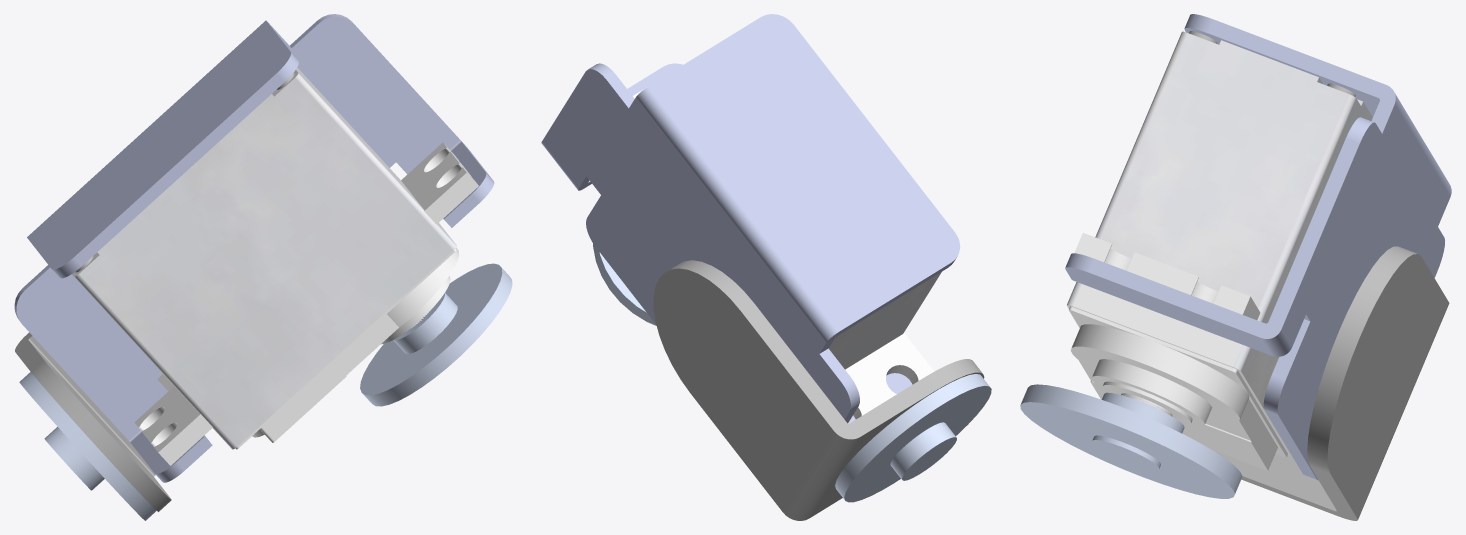
Rendered from r_elbow_link.dae.
The picture shows the model from 3 angles, left to right: view 1: azimuth 30°, elevation 25°; view 2: azimuth 150°, elevation 25°; view 3: azimuth 270°, elevation 25°; orthographic projection. The views are drawn at different scales.
Parts seen in each view (by area): view 1: Actor0; view 2: Actor0; view 3: Actor0.
Boxes of the visible parts, x1,y1,x2,y2 form: Actor0: (14, 14, 512, 520); Actor0: (541, 14, 991, 520); Actor0: (1020, 14, 1451, 520).
Bounding box in the file's own units: 0.0641 × 0.0636 × 0.0444.
7 materials, 2 textured.
